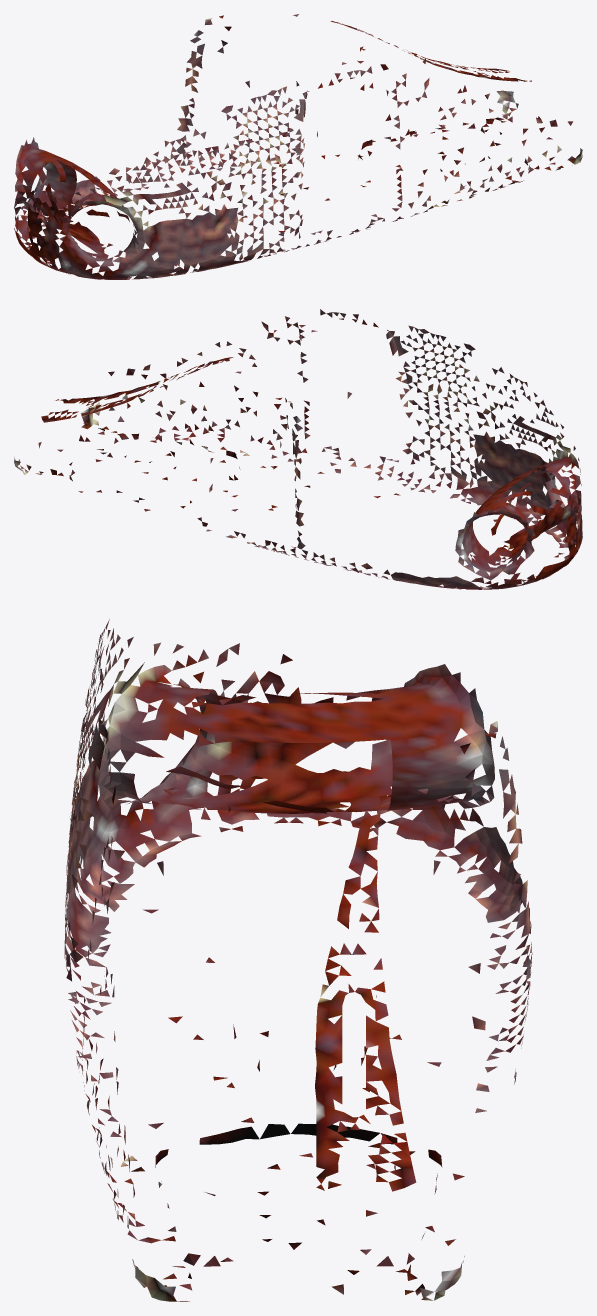
File: whistle_final1200.obj
The picture shows the model from 3 angles, top to bottom: view 1: azimuth 30°, elevation 25°; view 2: azimuth 150°, elevation 25°; view 3: azimuth 270°, elevation 25°; orthographic projection. The views are drawn at different scales.
Size of the model in its own units: 1.92 by 0.5751 by 0.7498.
